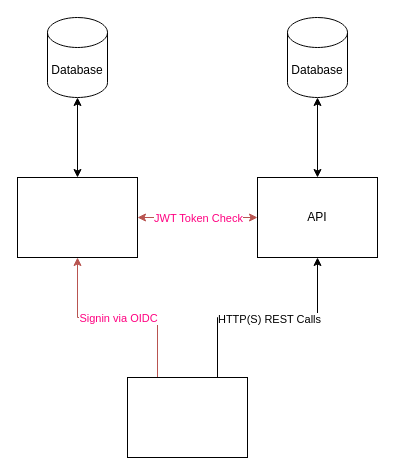
The diagram is 395 pixels wide and 475 high, and some of its shapes have lost their labels. Each missing label, with the centre of its shape:
"Frontend" goes at point (187, 417).
"KeyCloak" goes at point (77, 217).
